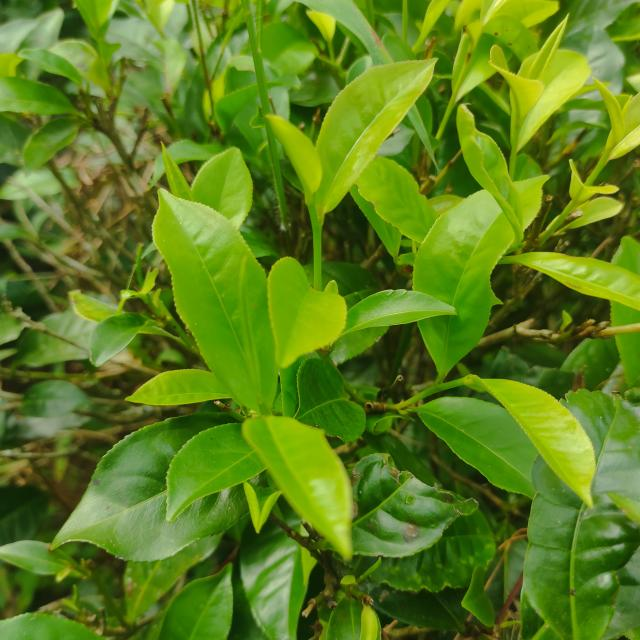unopened_leaf: (229, 247, 272, 416), (396, 0, 413, 43)
